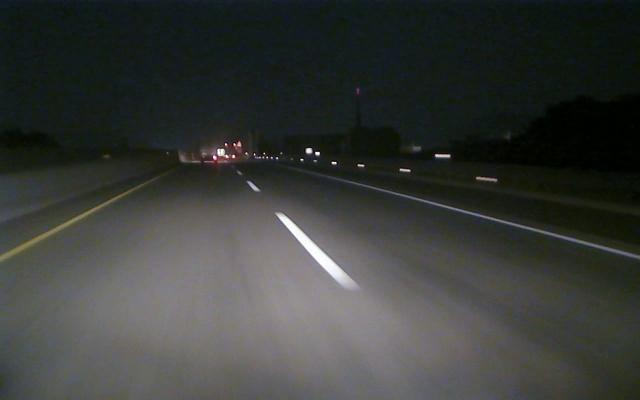lane: (359, 183, 637, 261), (246, 181, 363, 291), (3, 192, 126, 261)
